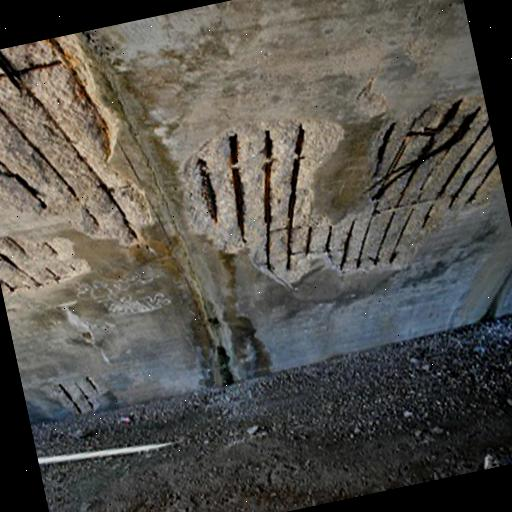spalling: (183, 97, 502, 284), (0, 33, 156, 247), (0, 237, 92, 295), (52, 377, 110, 416)
